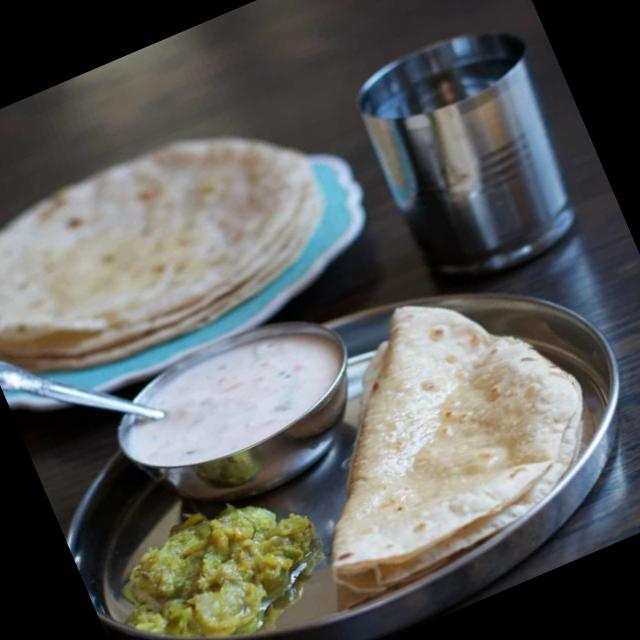roti: (325, 299, 597, 627), (0, 139, 324, 370)
